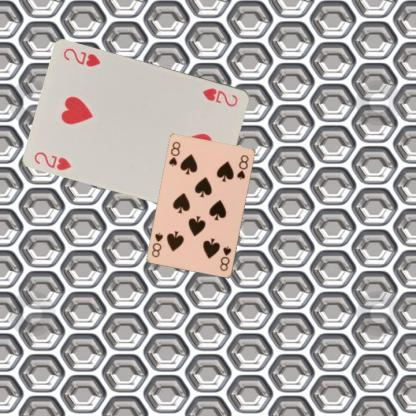2h: (32, 148, 73, 172), (200, 85, 239, 108)
8s: (217, 244, 233, 273), (166, 139, 182, 168)
